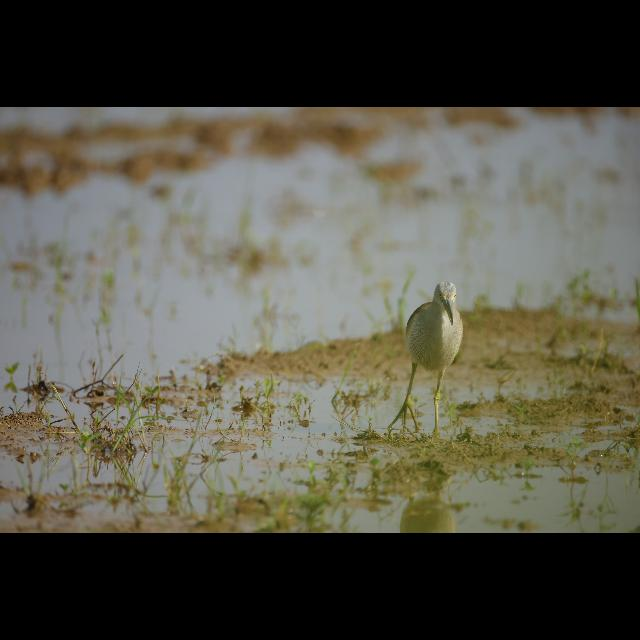heron: (398, 280, 474, 442)
